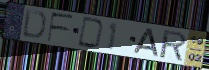1: (107, 22, 119, 51)
A: (132, 27, 160, 59)
D: (76, 16, 106, 50), (20, 8, 47, 40)
F: (46, 11, 75, 43)
R: (160, 29, 189, 63)
